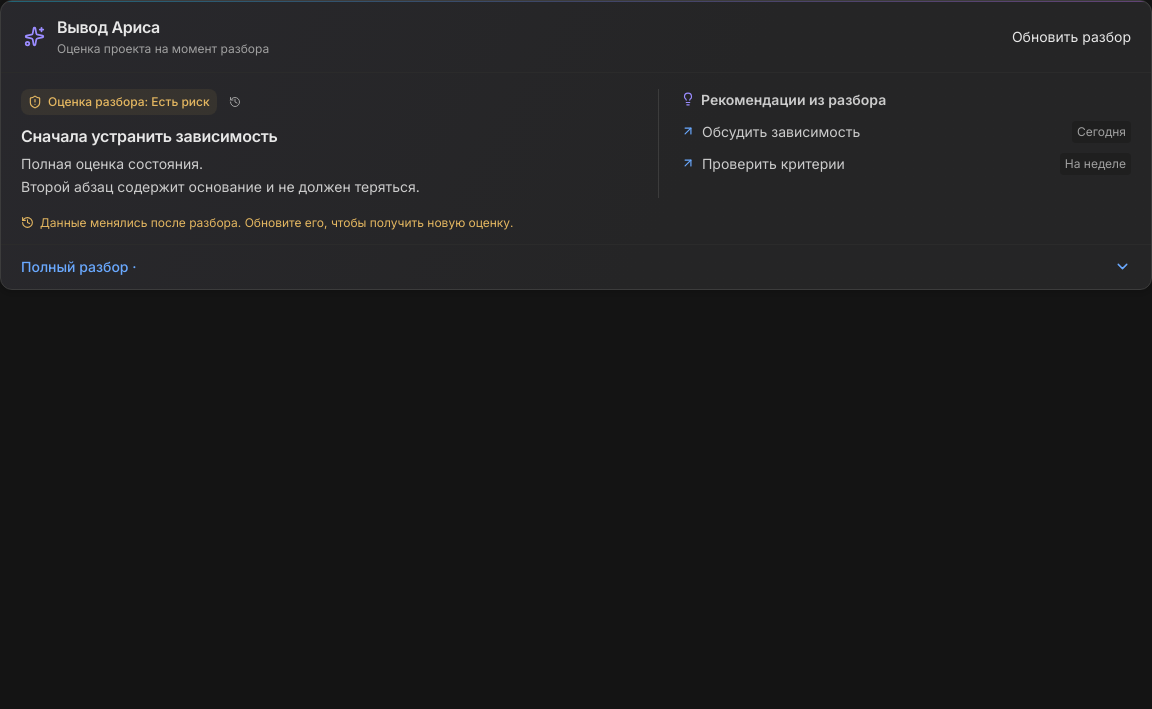
Test: нулевой снимок не изображает завершение задач
The image size is (1152, 709).
Click the heading "Полный разбор ·" at (79, 267), box left=21, top=258, right=1131, bottom=276
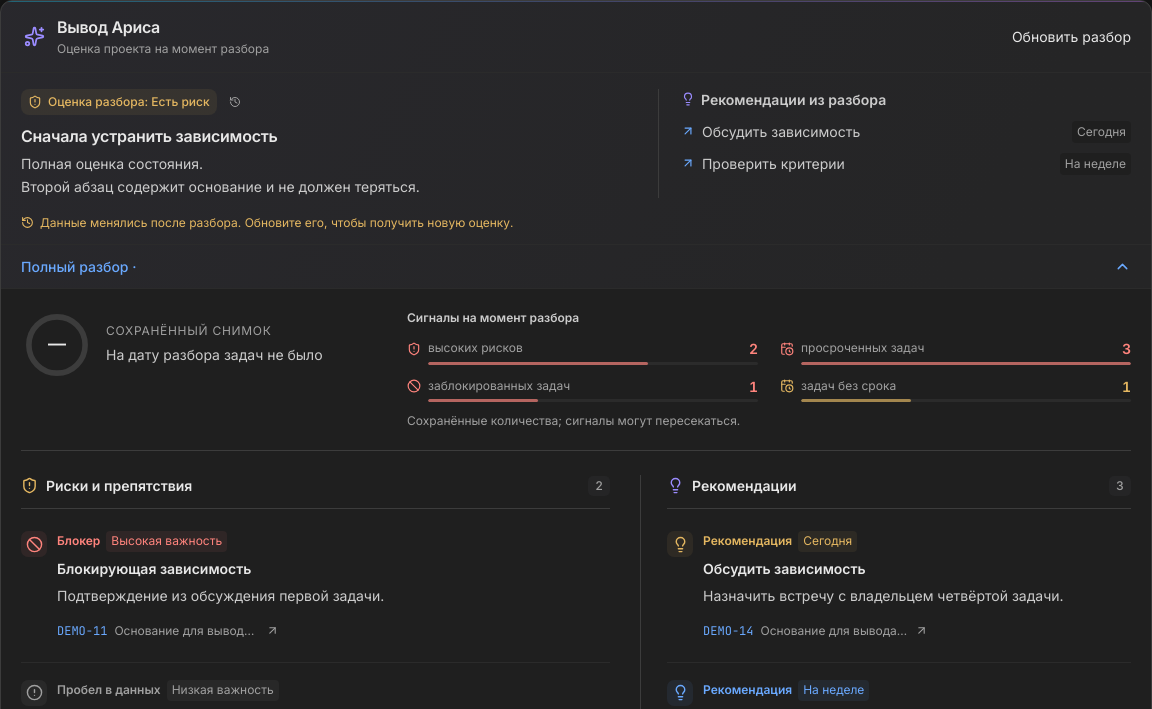
Expected: the picture named "Сохранённый снимок: задач не было" is shown, left=21, top=309, right=93, bottom=381
